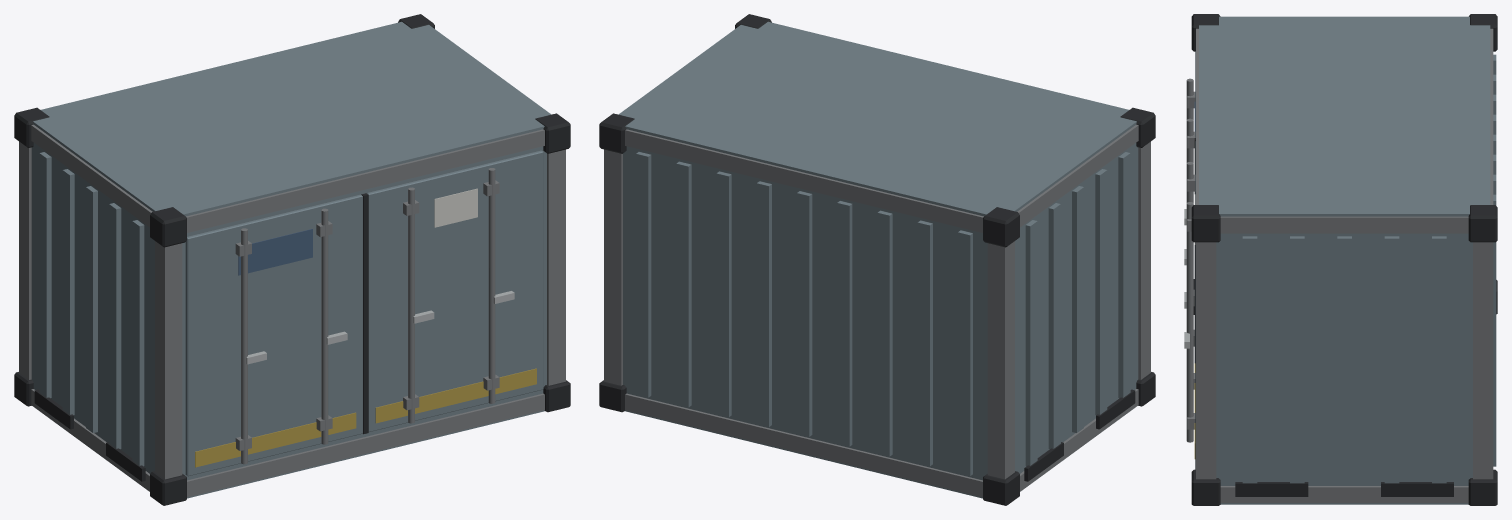
The model's file is astro_cargo_container.fbx.
3 views of the same model, side by side, from view 1: azimuth 30°, elevation 25°; view 2: azimuth 150°, elevation 25°; view 3: azimuth 270°, elevation 25° (orthographic).
Parts seen in each view (by area): view 1: CargoContainer_Body; view 2: CargoContainer_Body; view 3: CargoContainer_Body.
Part boxes in pixels (x1=…): CargoContainer_Body: x1=14, y1=14, x2=570, y2=505; CargoContainer_Body: x1=599, y1=14, x2=1155, y2=505; CargoContainer_Body: x1=1184, y1=14, x2=1497, y2=505.
Size of the model in its own units: 330 by 221 by 215.
